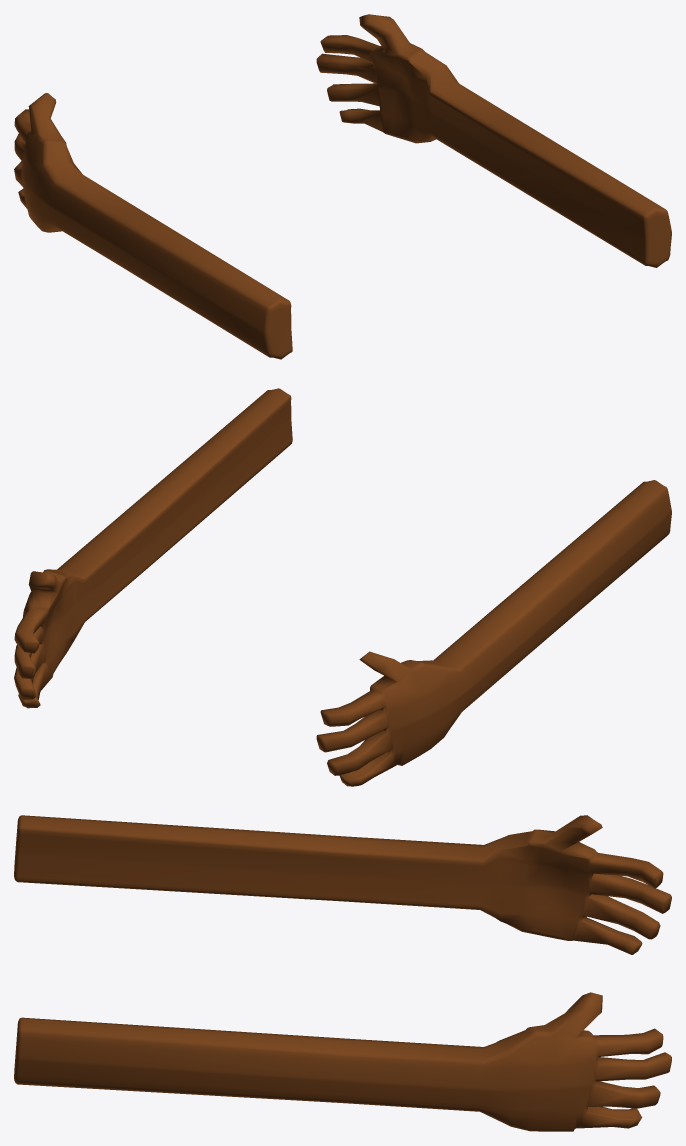
The model's file is Arms_v1.fbx.
3 renders of one model, top to bottom at view 1: azimuth 30°, elevation 25°; view 2: azimuth 150°, elevation 25°; view 3: azimuth 270°, elevation 25°, orthographic. The views are drawn at different scales.
Parts seen in each view (by area): view 1: Player-Hand; view 2: Player-Hand; view 3: Player-Hand.
Part boxes in pixels (x1,y1,x2,y2): Player-Hand: [14, 14, 671, 359]; Player-Hand: [14, 388, 671, 786]; Player-Hand: [14, 815, 671, 1131].
Bounding box in the file's own units: 56.42 × 15.56 × 70.14.
